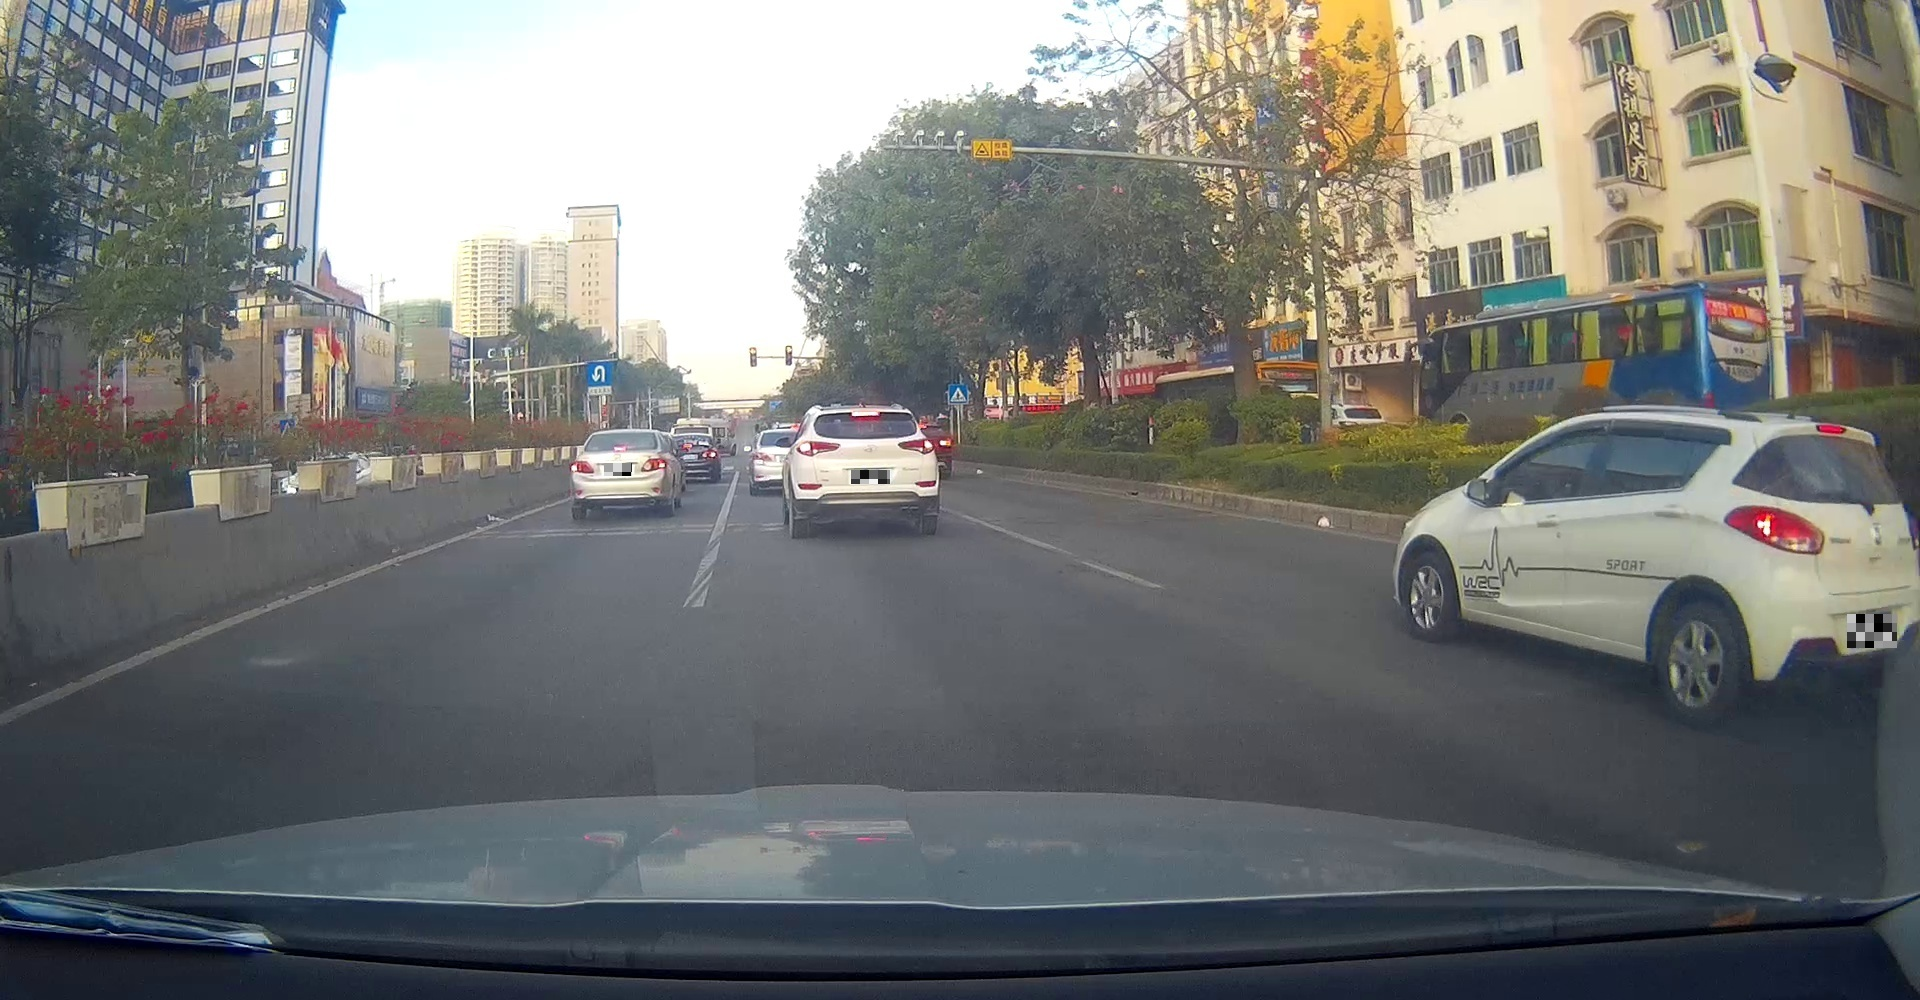L_light: (1723, 503, 1826, 555), (794, 442, 841, 457), (569, 461, 594, 475)
R_light: (898, 438, 938, 454), (1903, 511, 1920, 551), (641, 458, 667, 473)
T_light: (1815, 423, 1848, 434), (852, 411, 879, 418), (615, 445, 626, 451)
day-brake: (1716, 415, 1920, 734), (790, 404, 938, 537), (569, 430, 669, 520)
plate_1: (604, 463, 632, 476)
plate_2: (851, 470, 890, 484)
plate_3: (1848, 614, 1897, 648)
